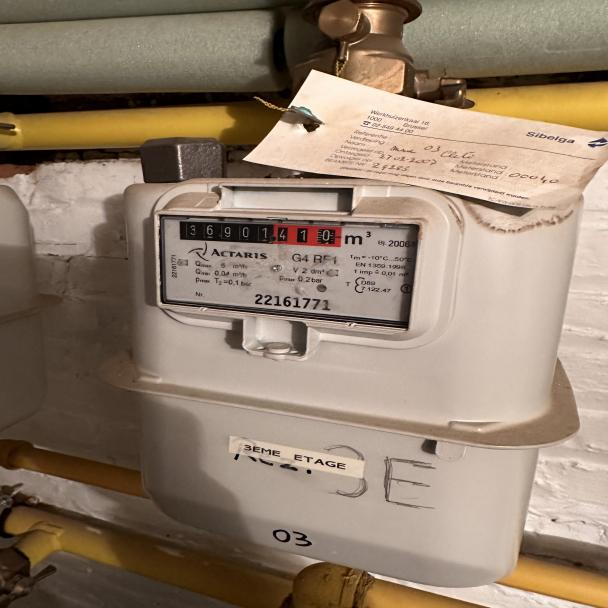0: (317, 225, 340, 250), (239, 222, 258, 241)
1: (292, 224, 316, 248), (259, 222, 273, 245)
3: (190, 222, 202, 240)
4: (273, 223, 294, 247)
6: (202, 221, 220, 242)
9: (219, 221, 240, 243)
cm: (274, 224, 346, 251)
counter: (183, 221, 272, 246)
